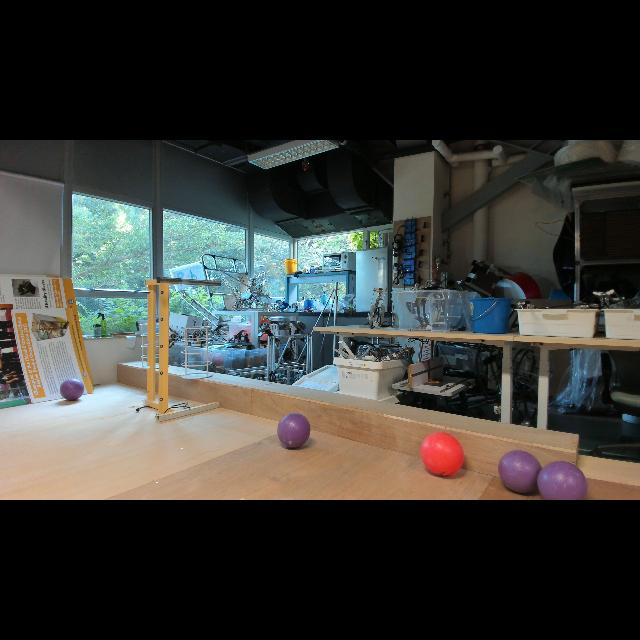P: (496, 448, 542, 496), (536, 460, 590, 500), (274, 412, 312, 450), (58, 377, 86, 403)
R: (418, 428, 467, 478)
S: (180, 325, 214, 381), (140, 322, 170, 371)
